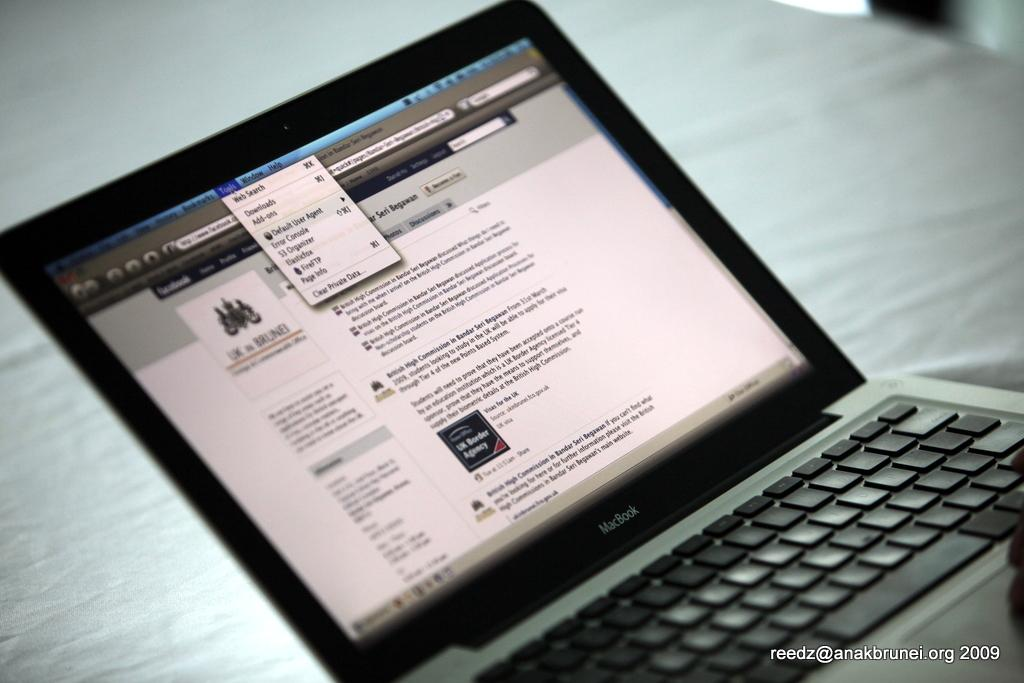Computer-keyboard: (461, 395, 1023, 682)
